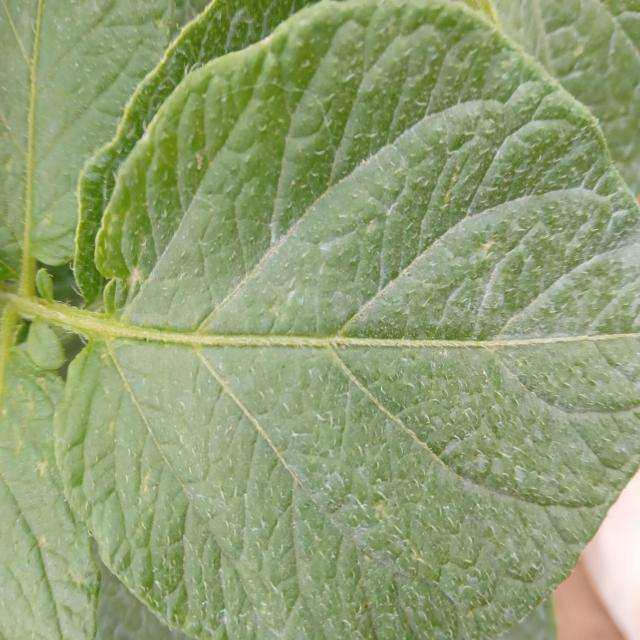healthy: (35, 2, 637, 637)
